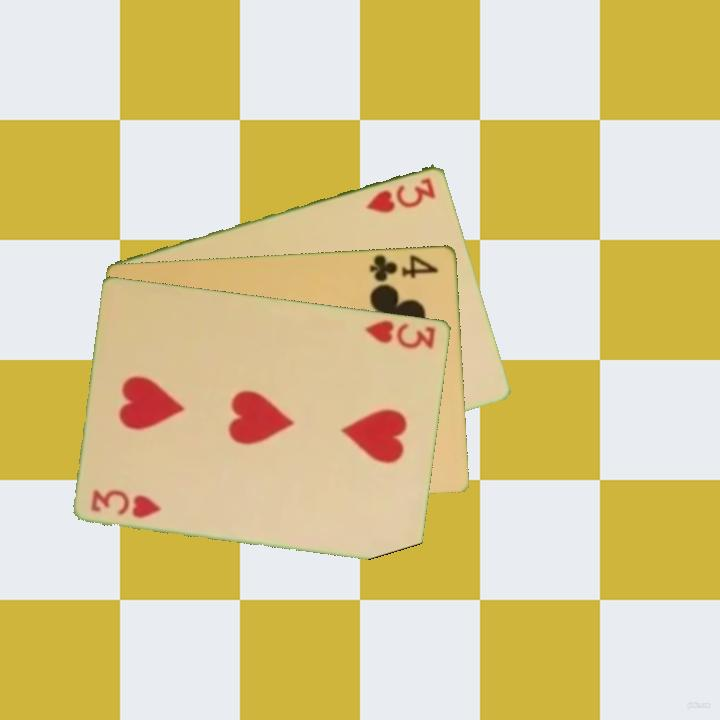3h: (362, 173, 439, 216), (361, 316, 439, 351), (88, 486, 165, 521)
4c: (366, 250, 441, 284)
